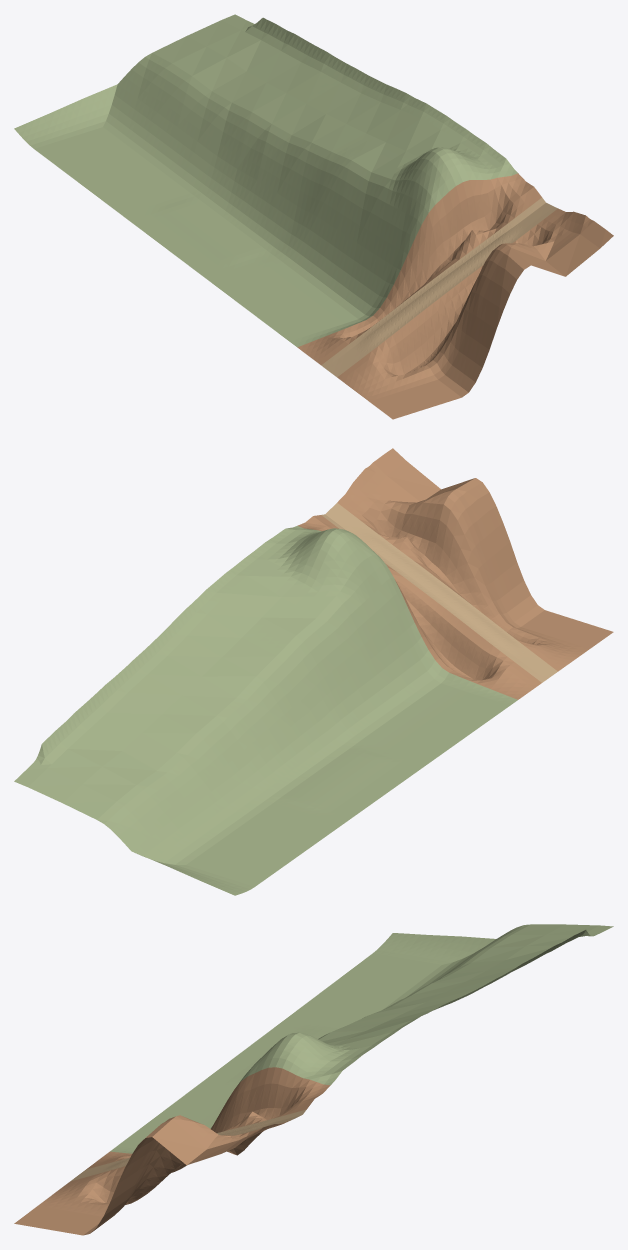
File: phase3i-inner.glb
3 views of the same model, one above another, from view 1: azimuth 30°, elevation 25°; view 2: azimuth 150°, elevation 25°; view 3: azimuth 330°, elevation 25° (orthographic).
Visible parts, largest first — view 1: ic-bridge.surface.grass, ic-lookout.surface.grass, ic-bridge.surface.earth, ic-koguchi.surface.earth, ic-bridge.surface.path, ic-koguchi.surface.path, ic-lookout.surface.earth; view 2: ic-lookout.surface.grass, ic-bridge.surface.grass, ic-bridge.surface.earth, ic-koguchi.surface.earth, ic-bridge.surface.path, ic-koguchi.surface.path; view 3: ic-bridge.surface.grass, ic-lookout.surface.grass, ic-bridge.surface.earth, ic-koguchi.surface.earth, ic-lookout.surface.earth, ic-koguchi.surface.path.
Boxes of the visible parts, x1,y1,x2,y2 form: ic-bridge.surface.grass: [14, 76, 407, 347]; ic-lookout.surface.grass: [125, 14, 517, 254]; ic-bridge.surface.earth: [297, 214, 613, 419]; ic-koguchi.surface.earth: [425, 177, 581, 294]; ic-bridge.surface.path: [321, 270, 460, 377]; ic-koguchi.surface.path: [446, 197, 557, 281]; ic-lookout.surface.earth: [407, 173, 521, 263]; ic-lookout.surface.grass: [14, 526, 407, 843]; ic-bridge.surface.grass: [125, 607, 517, 895]; ic-bridge.surface.earth: [361, 448, 613, 699]; ic-koguchi.surface.earth: [301, 474, 457, 604]; ic-bridge.surface.path: [418, 576, 557, 682]; ic-koguchi.surface.path: [321, 503, 433, 587]; ic-bridge.surface.grass: [110, 933, 500, 1153]; ic-lookout.surface.grass: [235, 924, 613, 1088]; ic-bridge.surface.earth: [14, 1103, 266, 1235]; ic-koguchi.surface.earth: [181, 1083, 326, 1163]; ic-lookout.surface.earth: [217, 1067, 330, 1120]; ic-koguchi.surface.path: [217, 1109, 306, 1135].
Bounding box in the file's own units: 32 × 20.19 × 95.
